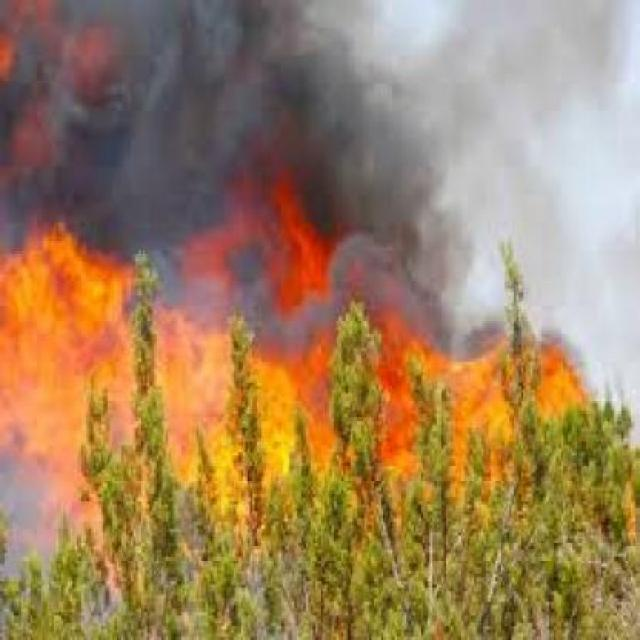Fire: (0, 236, 612, 597)
Smoke: (0, 0, 640, 267)
